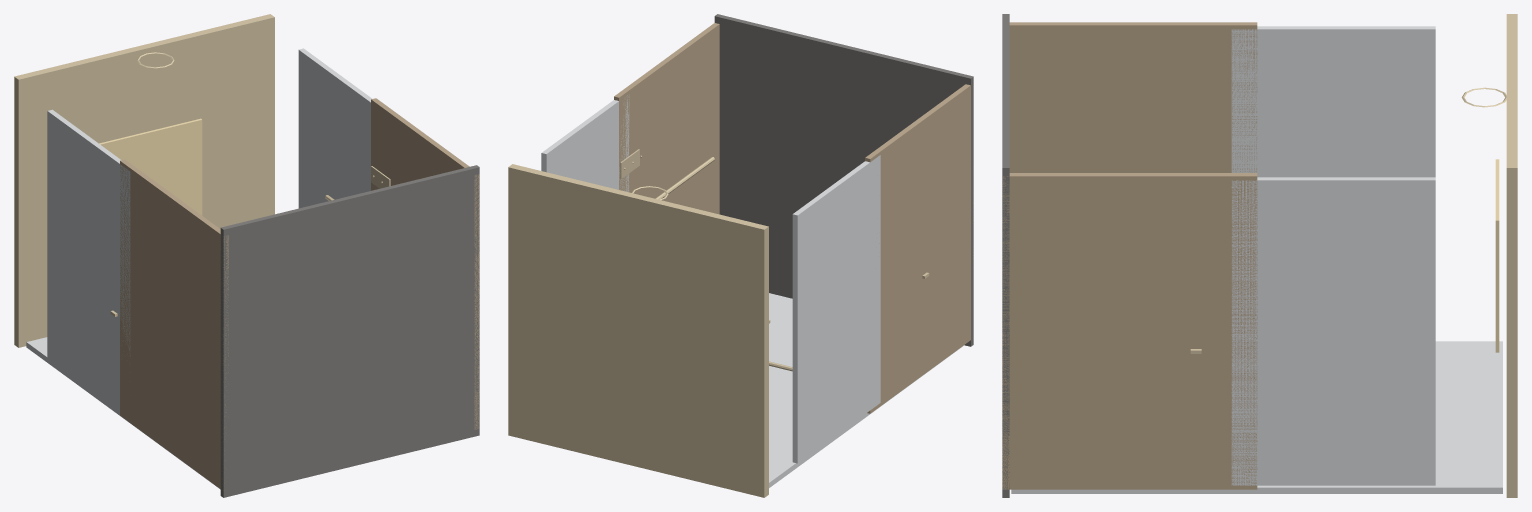
File: elevator_car.glb
3 views of the same model, side by side, from view 1: azimuth 30°, elevation 25°; view 2: azimuth 150°, elevation 25°; view 3: azimuth 270°, elevation 25° (orthographic). The views are drawn at different scales.
Visible parts, largest first — view 1: ElevatorCar; view 2: ElevatorCar; view 3: ElevatorCar.
Part boxes in pixels (left/top/right/bottom): ElevatorCar: left=14, top=14, right=479, bottom=497; ElevatorCar: left=508, top=14, right=973, bottom=497; ElevatorCar: left=1002, top=14, right=1517, bottom=497.
Size of the model in its own units: 2.5 by 2.25 by 2.83.
